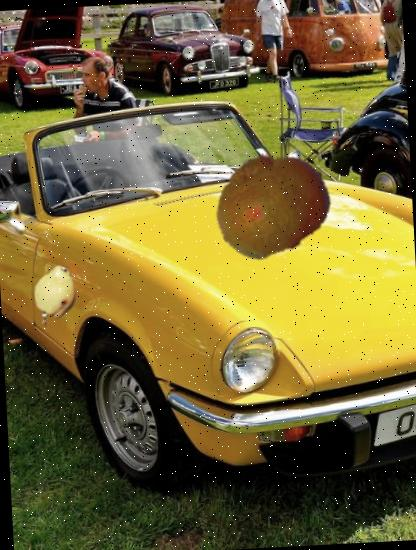Mandarine: (210, 142, 334, 266)
Quince: (28, 264, 84, 320)
